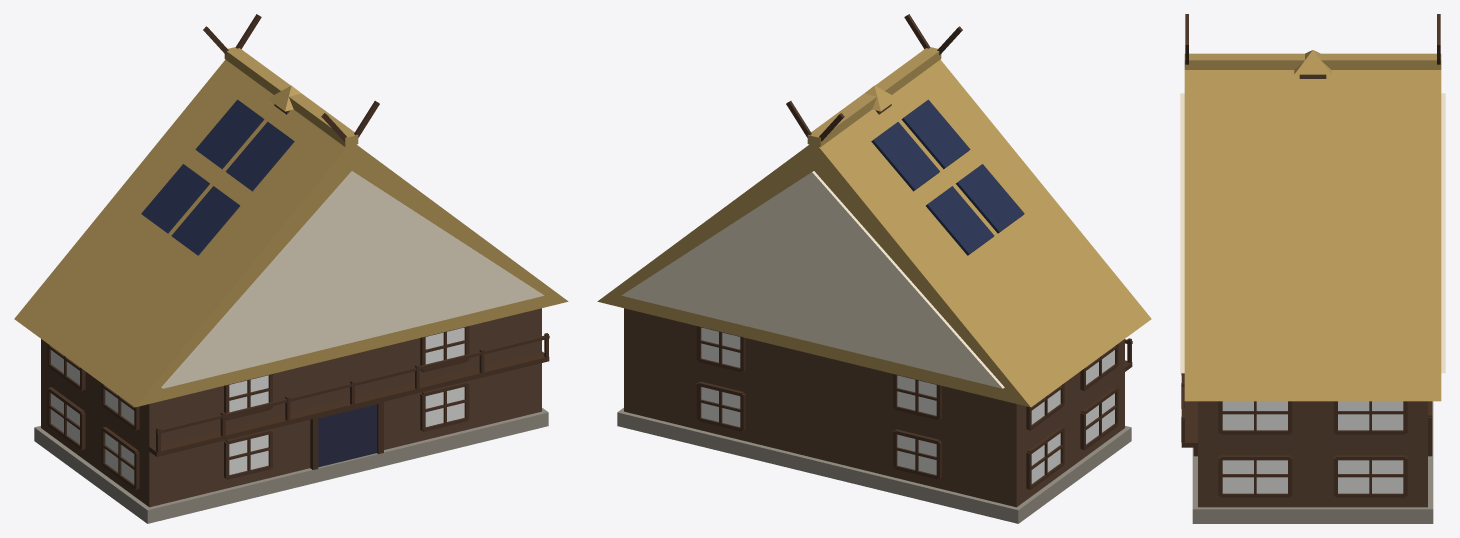
Rendered from house-2x1-2f-gassho-a-solar.glb.
3 renders of one model, left to right at view 1: azimuth 30°, elevation 25°; view 2: azimuth 150°, elevation 25°; view 3: azimuth 270°, elevation 25°, orthographic. The views are drawn at different scales.
Visible parts, largest first — view 1: house-2x1-2f-gassho-a-solar; view 2: house-2x1-2f-gassho-a-solar; view 3: house-2x1-2f-gassho-a-solar.
Part boxes in pixels (box(x1,y1,x2,y2)): house-2x1-2f-gassho-a-solar: box(14, 14, 568, 523); house-2x1-2f-gassho-a-solar: box(597, 14, 1151, 523); house-2x1-2f-gassho-a-solar: box(1180, 14, 1445, 523).
Bounding box in the file's own units: 1.99 × 1.62 × 0.99.
Materials: 1 (1 with a texture image).
